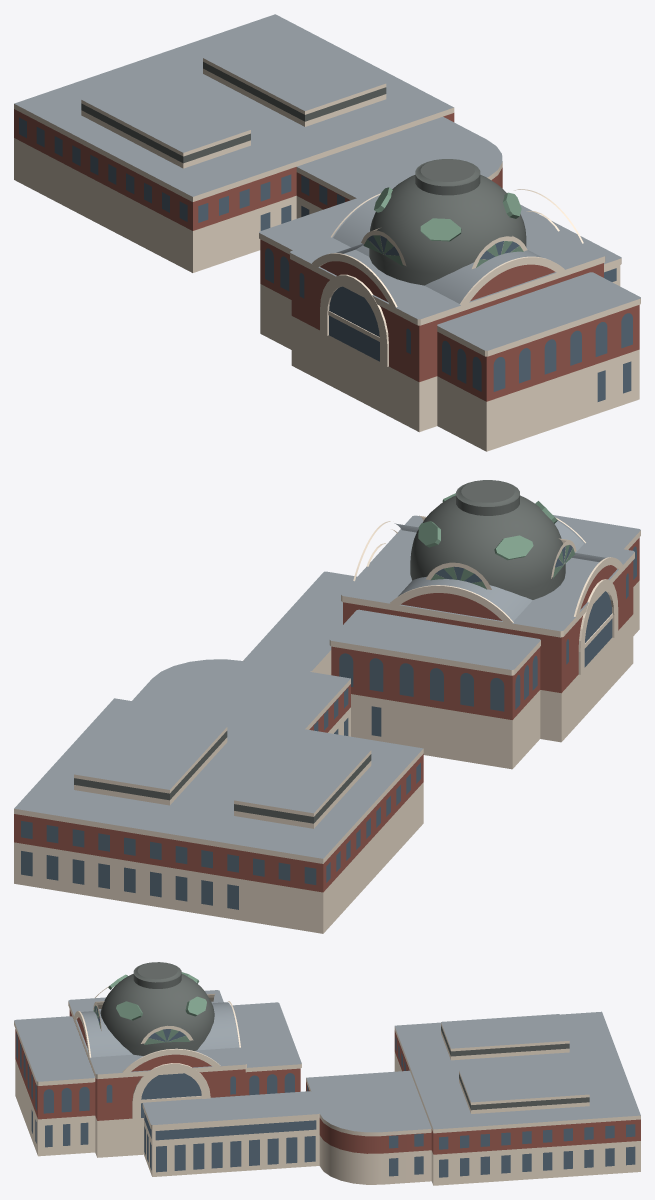
The model's file is detail.glb.
The picture shows the model from 3 angles, top to bottom: view 1: azimuth 30°, elevation 25°; view 2: azimuth 150°, elevation 25°; view 3: azimuth 270°, elevation 25°; orthographic projection. The views are drawn at different scales.
Visible parts, largest first — view 1: tacoma-union-station; view 2: tacoma-union-station; view 3: tacoma-union-station.
Part boxes in pixels (x1,y1,x2,y2): tacoma-union-station: (14, 14, 640, 451); tacoma-union-station: (14, 480, 640, 933); tacoma-union-station: (14, 962, 640, 1185).
Bounding box in the file's own units: 64.95 × 37.42 × 146.
